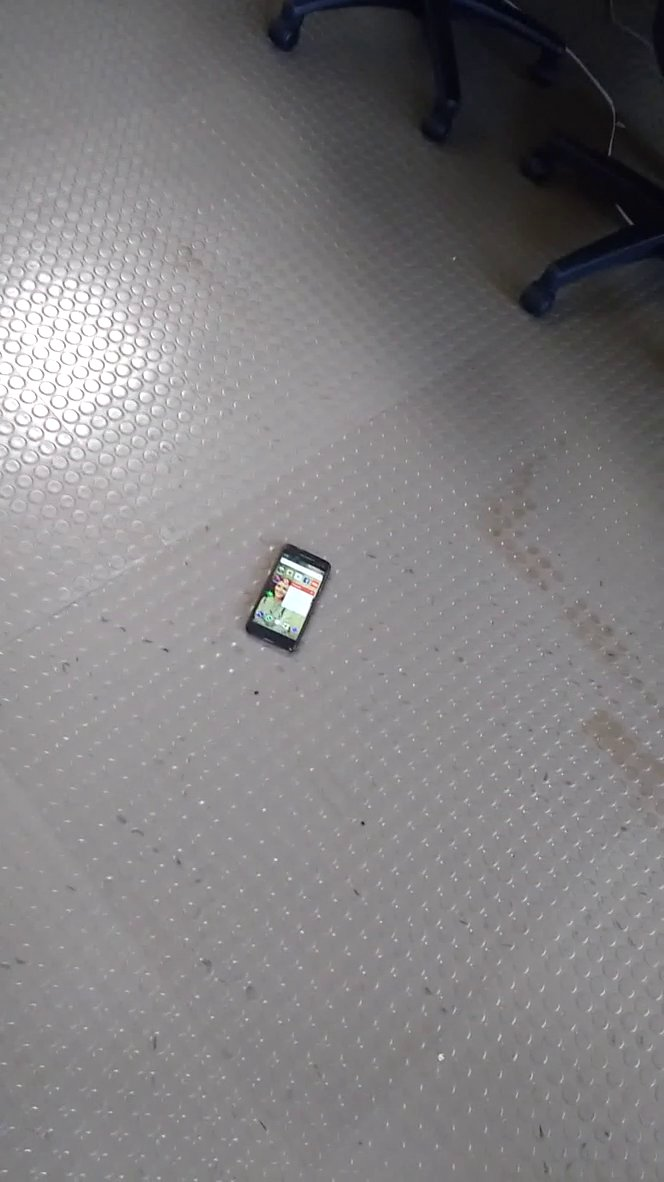phone: (235, 533, 337, 658)
